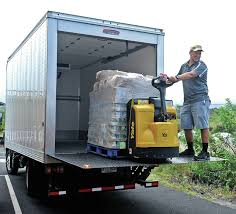Pallet Jack: (85, 74, 183, 165)
